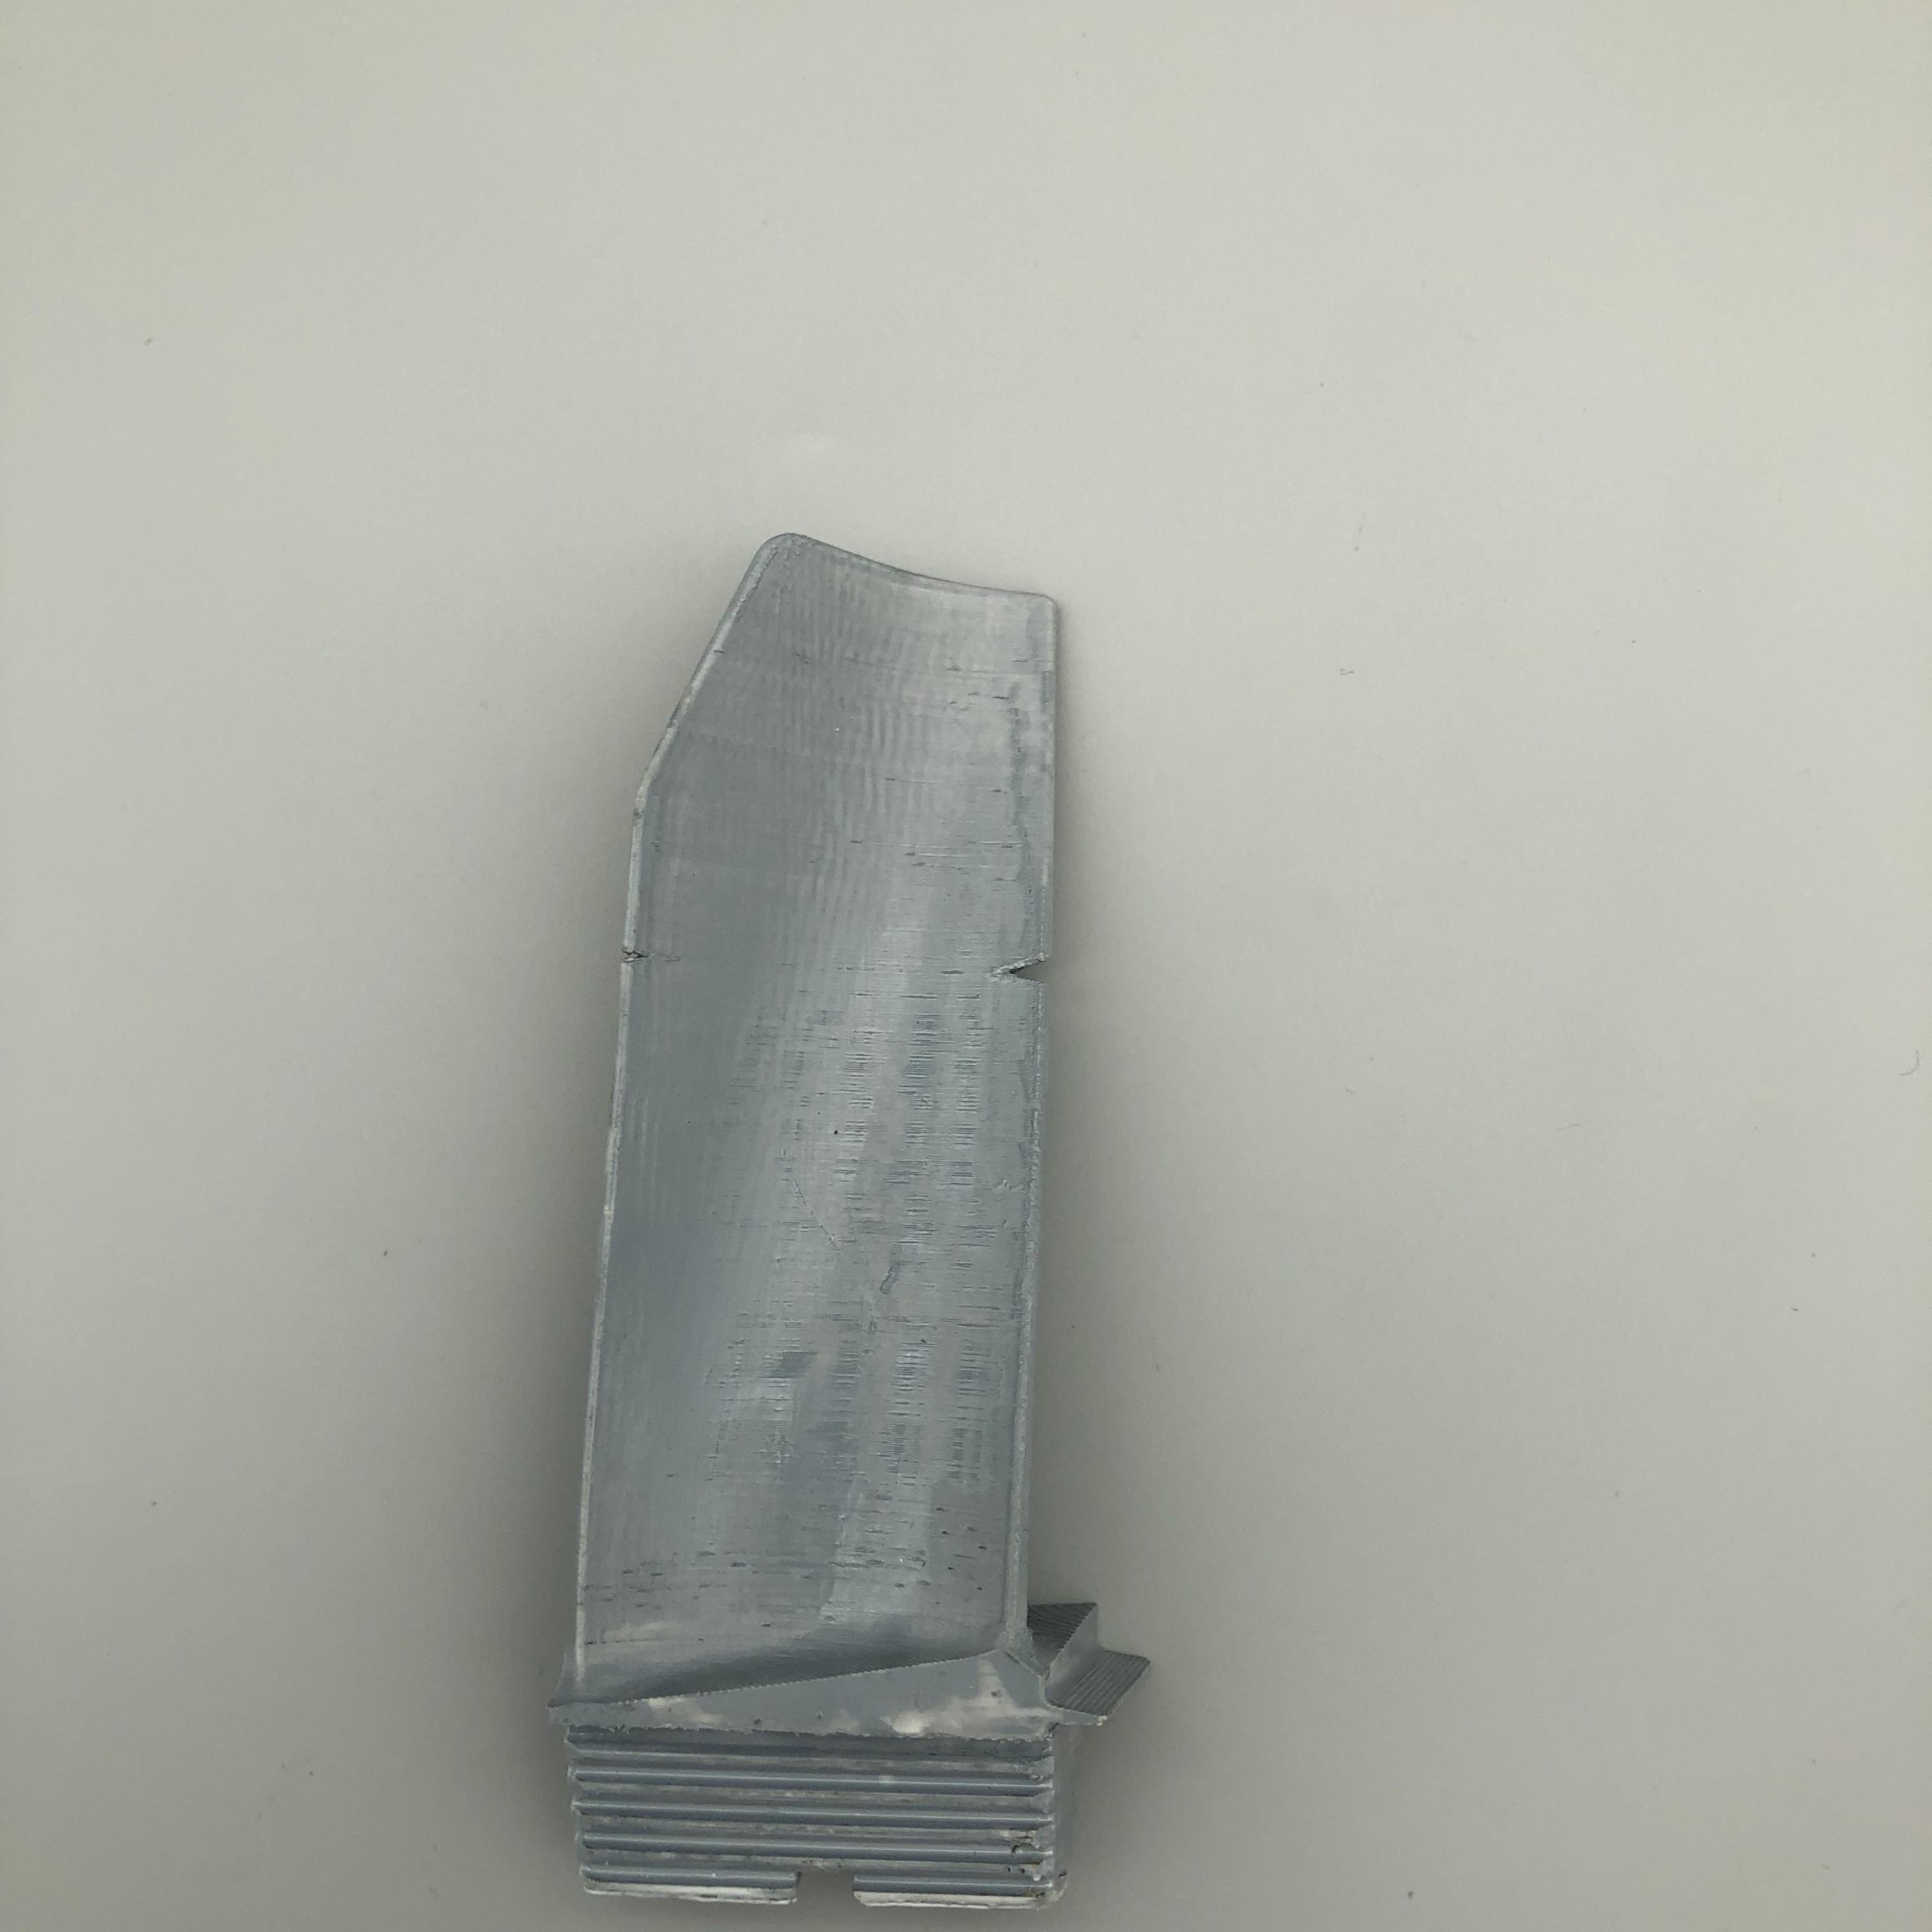groove: (1001, 954, 1053, 987), (628, 934, 655, 968)
